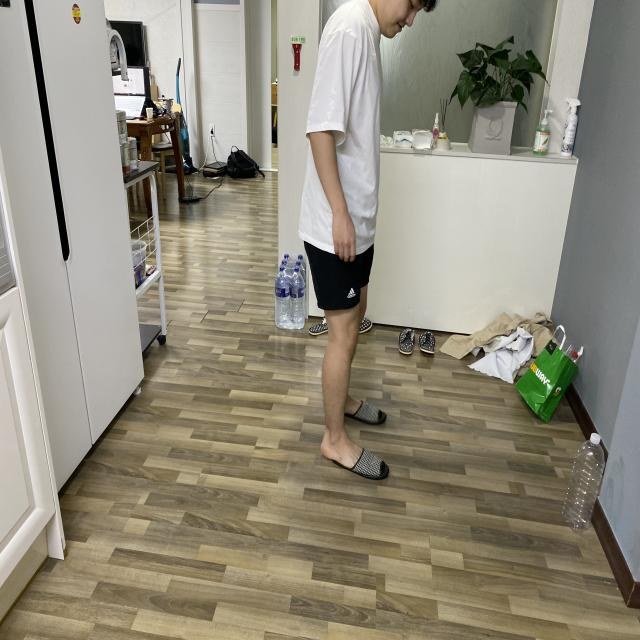no-boots: (318, 427, 399, 508), (325, 380, 399, 436)
